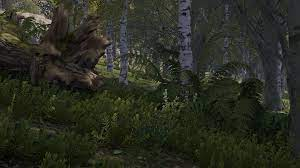tree: (1, 10, 124, 79), (247, 1, 288, 119), (281, 2, 299, 158), (176, 1, 198, 99), (118, 6, 133, 91), (217, 3, 230, 100), (106, 15, 117, 76)
